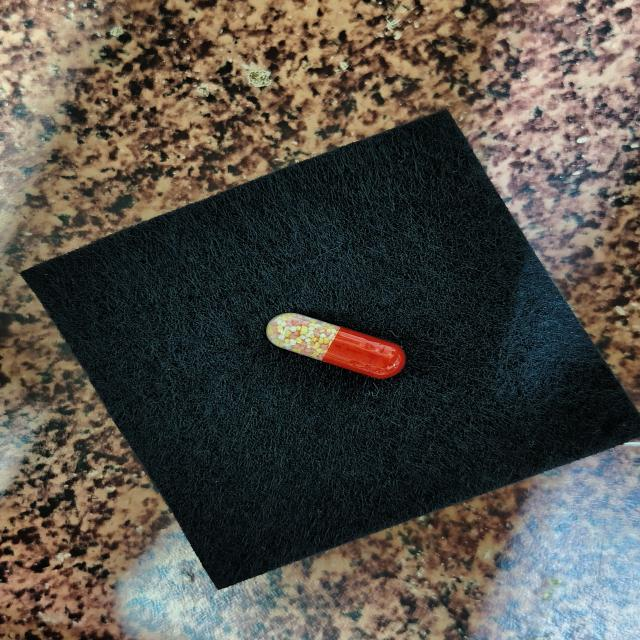Intact Capsule: (266, 313, 406, 379)
